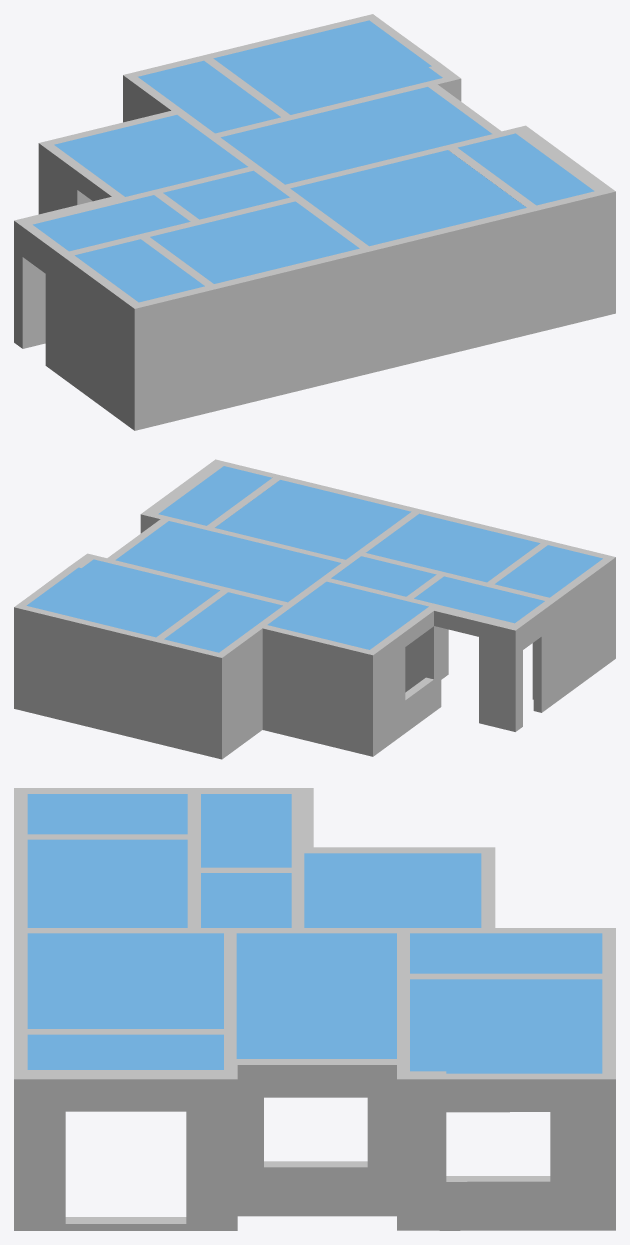
File: output_boolean_regions_anchor_snap.fbx
3 renders of one model, top to bottom at view 1: azimuth 30°, elevation 25°; view 2: azimuth 150°, elevation 25°; view 3: azimuth 270°, elevation 25°, orthographic. The views are drawn at different scales.
Visible parts, largest first — view 1: 承重墙_围合002, 承重墙_围合001, 承重墙_围合000, 布尔吊顶块006, 布尔吊顶块002, 布尔吊顶块009, 布尔吊顶块001, 布尔吊顶块007, 布尔吊顶块008, 布尔吊顶块003, 布尔吊顶块004, 布尔吊顶块000 (+17 smaller); view 2: 承重墙_围合011, 承重墙_围合009, 布尔吊顶块006, 承重墙_围合000, 布尔吊顶块002, 布尔吊顶块009, 承重墙_围合010, 承重墙_围合008, 布尔吊顶块001, 布尔吊顶块007, 承重墙_围合012, 布尔吊顶块008 (+22 smaller); view 3: 布尔吊顶块006, 布尔吊顶块002, 布尔吊顶块009, 布尔吊顶块001, 布尔吊顶块007, 承重墙_围合008, 承重墙_围合002, 承重墙_围合007, 布尔吊顶块008, 布尔吊顶块003, 布尔吊顶块004, 布尔吊顶块000 (+27 smaller).
Boxes of the visible parts, x1,y1,x2,y2 form: 承重墙_围合002: (360,176,615,374); 承重墙_围合001: (159,248,365,423); 承重墙_围合000: (45,241,164,430); 布尔吊顶块006: (221,87,491,184); 布尔吊顶块002: (290,150,526,246); 布尔吊顶块009: (213,20,442,114); 布尔吊顶块001: (150,201,359,283); 布尔吊顶块007: (54,115,247,196); 布尔吊顶块008: (138,60,280,133); 布尔吊顶块003: (458,133,594,205); 布尔吊顶块004: (33,195,190,251); 布尔吊顶块000: (75,239,204,302); 承重墙_围合011: (262,625,405,756); 承重墙_围合009: (83,621,198,752); 布尔吊顶块006: (115,521,340,602); 承重墙_围合000: (532,551,615,712); 布尔吊顶块002: (215,480,411,559); 布尔吊顶块009: (26,559,219,637); 承重墙_围合010: (194,602,294,759); 承重墙_围合008: (14,591,87,725); 布尔吊顶块001: (366,513,540,582); 布尔吊顶块007: (267,581,428,649); 承重墙_围合012: (479,616,522,731); 布尔吊顶块008: (164,592,282,652); 布尔吊顶块006: (236,933,396,1058); 布尔吊顶块002: (27,933,223,1028); 布尔吊顶块009: (410,979,602,1073); 布尔吊顶块001: (27,839,187,927); 布尔吊顶块007: (304,853,481,927); 承重墙_围合008: (550,1029,615,1230); 承重墙_围合002: (14,928,65,1230); 承重墙_围合007: (397,1015,446,1230); 布尔吊顶块008: (410,933,602,973); 布尔吊顶块003: (27,1034,223,1069); 布尔吊顶块004: (201,794,291,867); 布尔吊顶块000: (27,794,187,834).
Size of the model in its own units: 11.99 by 2.91 by 10.47.
